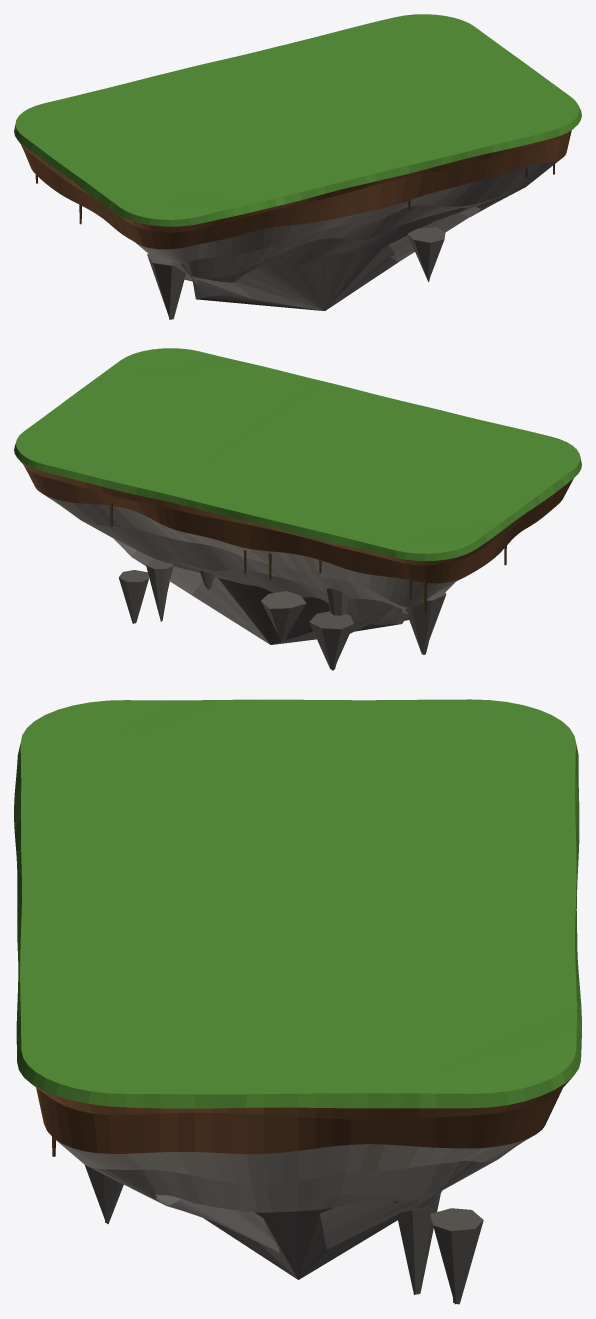
Rendered from valora-island.glb.
3 renders of one model, top to bottom at view 1: azimuth 30°, elevation 25°; view 2: azimuth 150°, elevation 25°; view 3: azimuth 270°, elevation 25°, orthographic. The views are drawn at different scales.
Parts seen in each view (by area): view 1: island; view 2: island; view 3: island.
Boxes of the visible parts, <box> form: island: <box>14,14,581,319</box>; island: <box>14,348,581,670</box>; island: <box>14,699,581,1304</box>.
Size of the model in its own units: 24.97 by 10.52 by 15.04.
